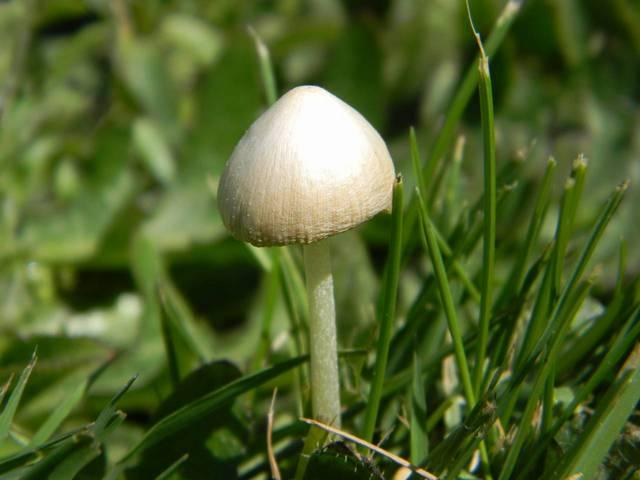edible_mushroom: (215, 83, 397, 449)
